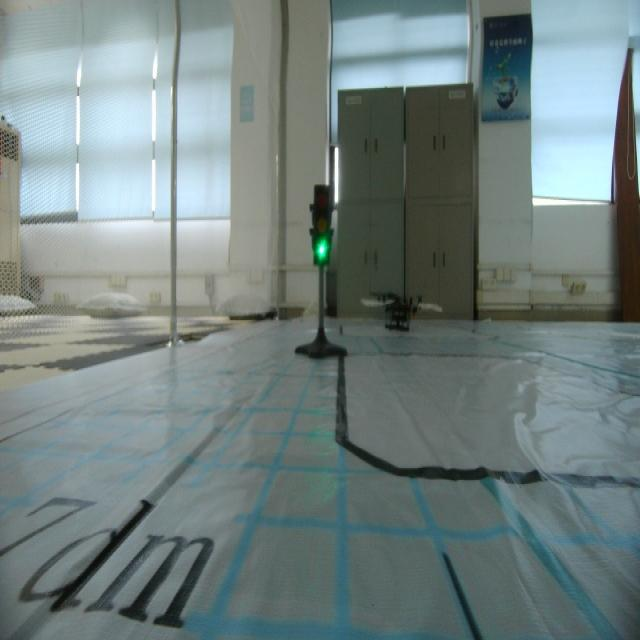green: (306, 179, 340, 276)
